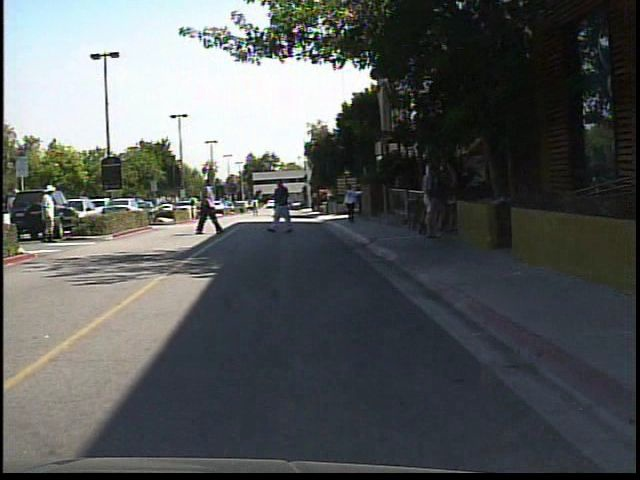person: (416, 151, 450, 244), (195, 172, 225, 238), (441, 163, 466, 242), (269, 177, 299, 237), (39, 181, 66, 246), (341, 180, 362, 230), (13, 183, 31, 209), (249, 195, 265, 219), (193, 195, 194, 221)
